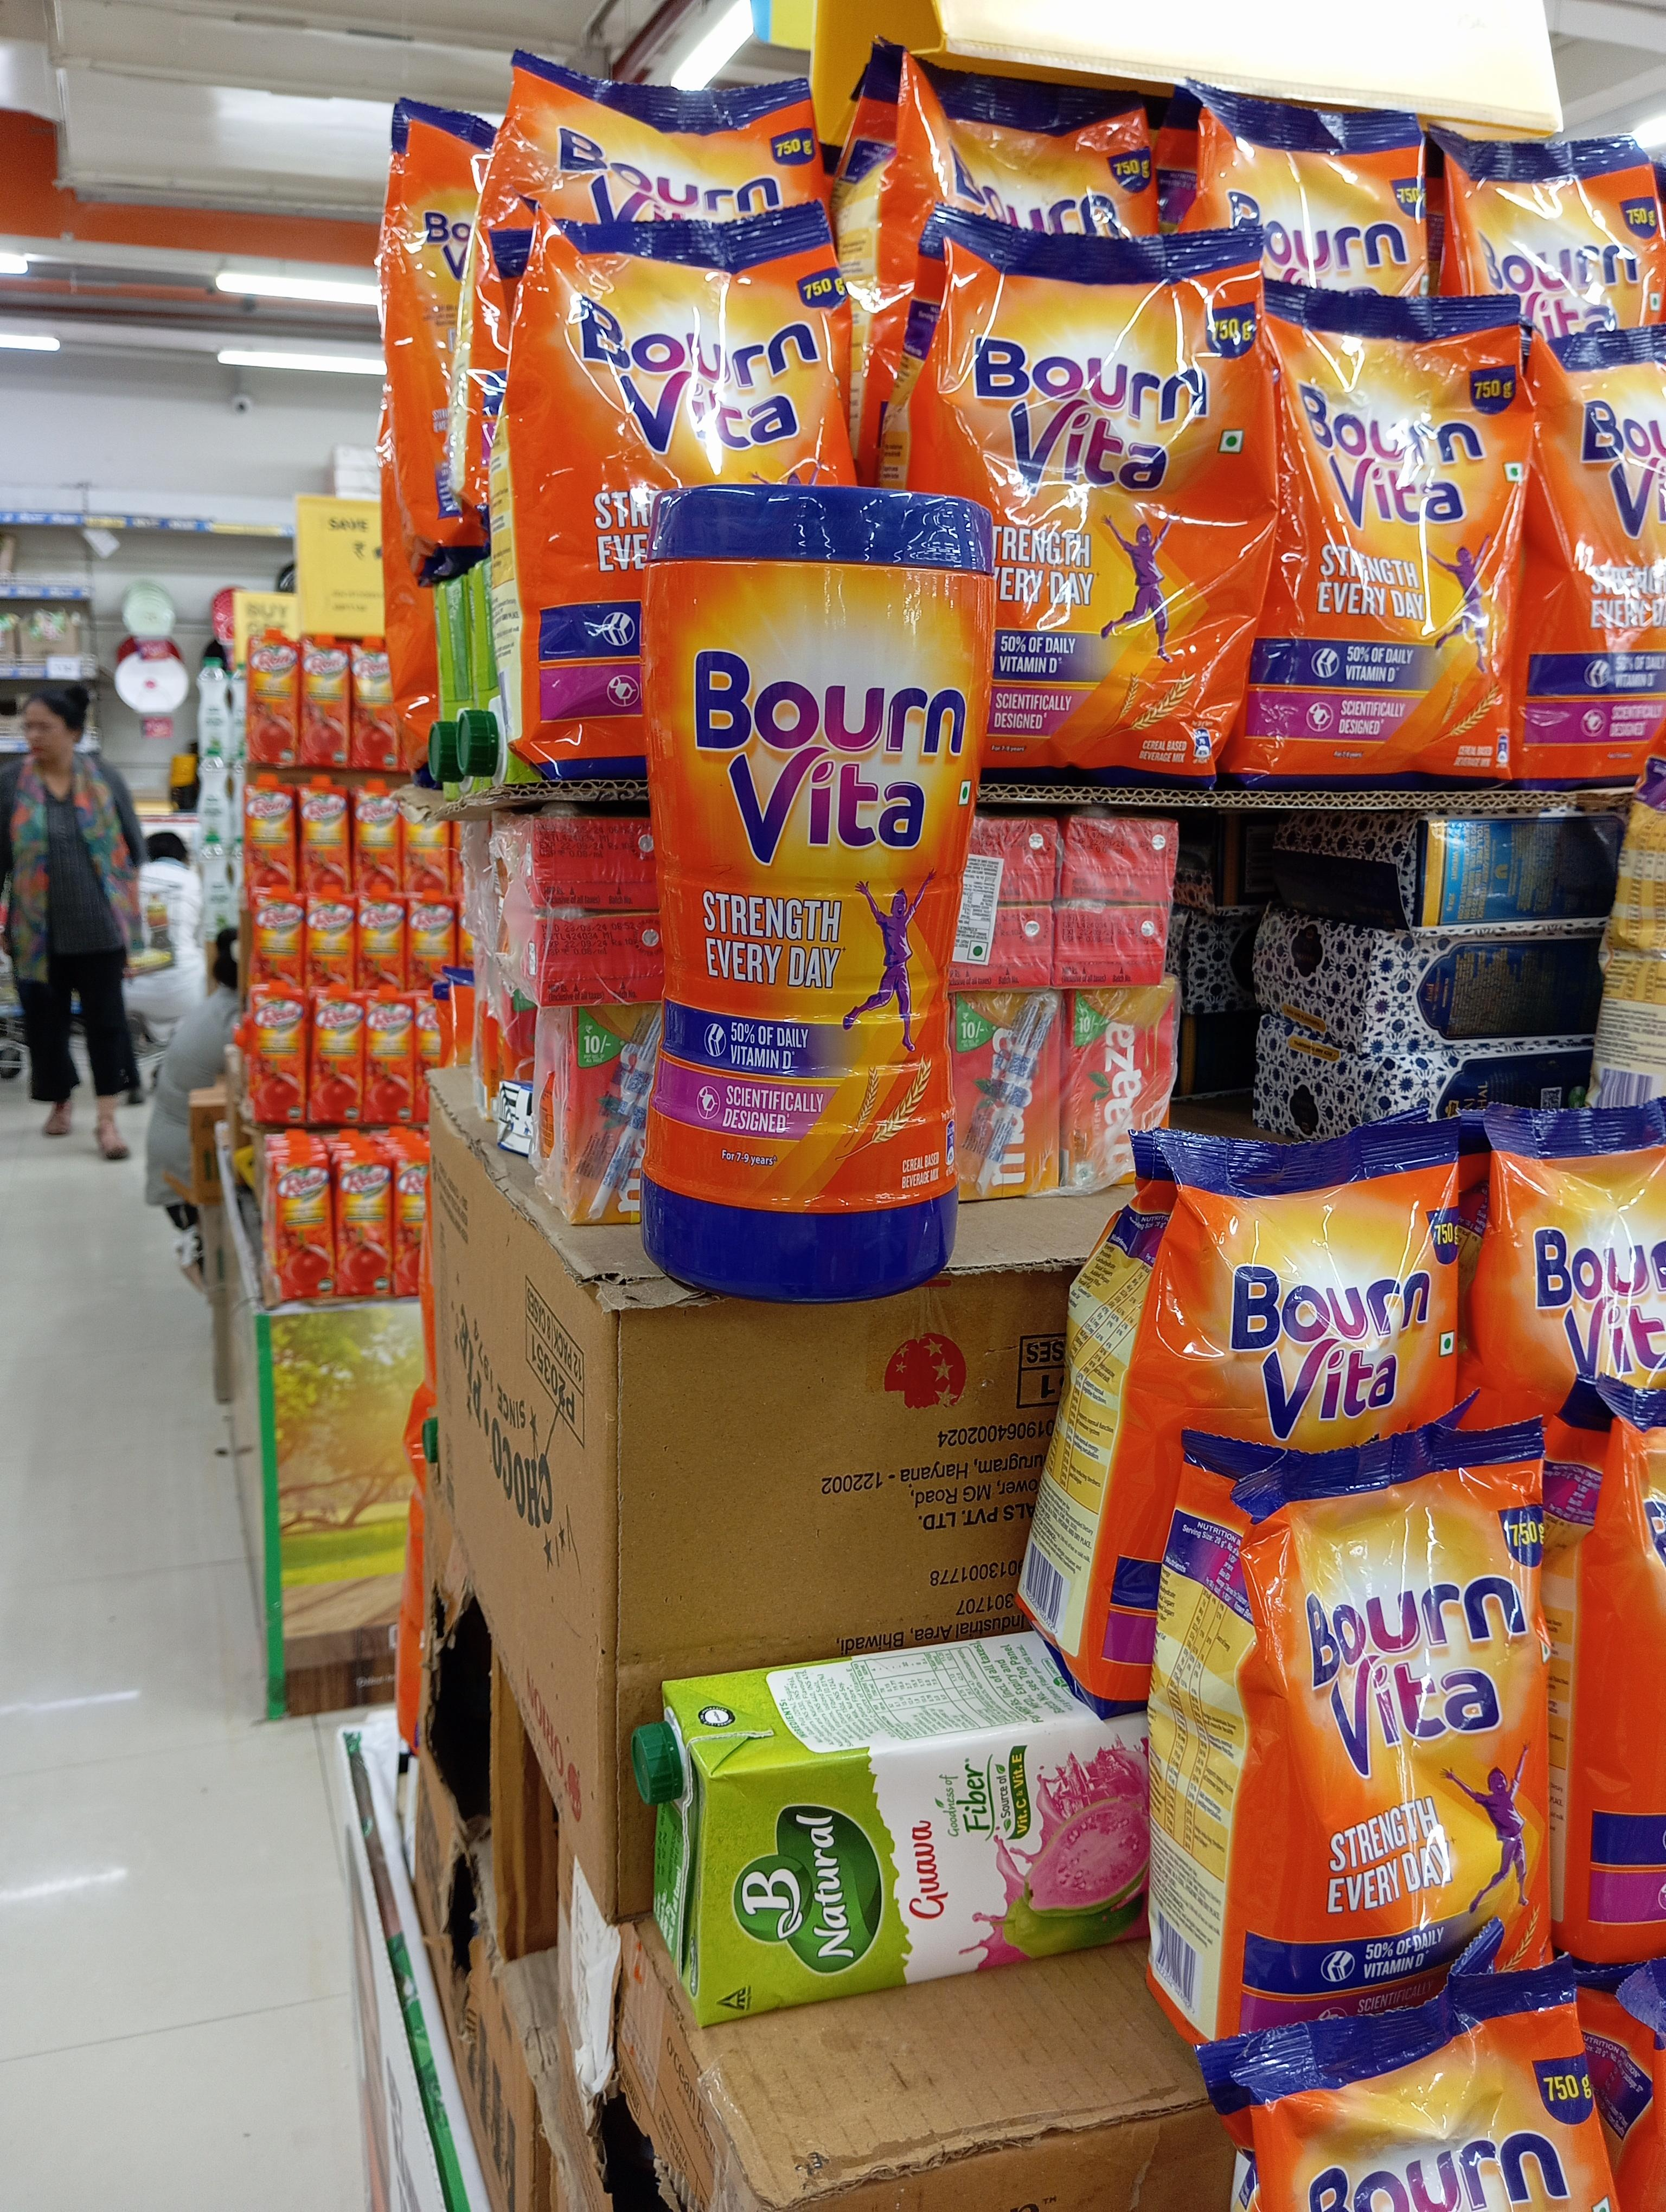BOURN_VITA_1_KG_JAR: (642, 484, 963, 1304)
